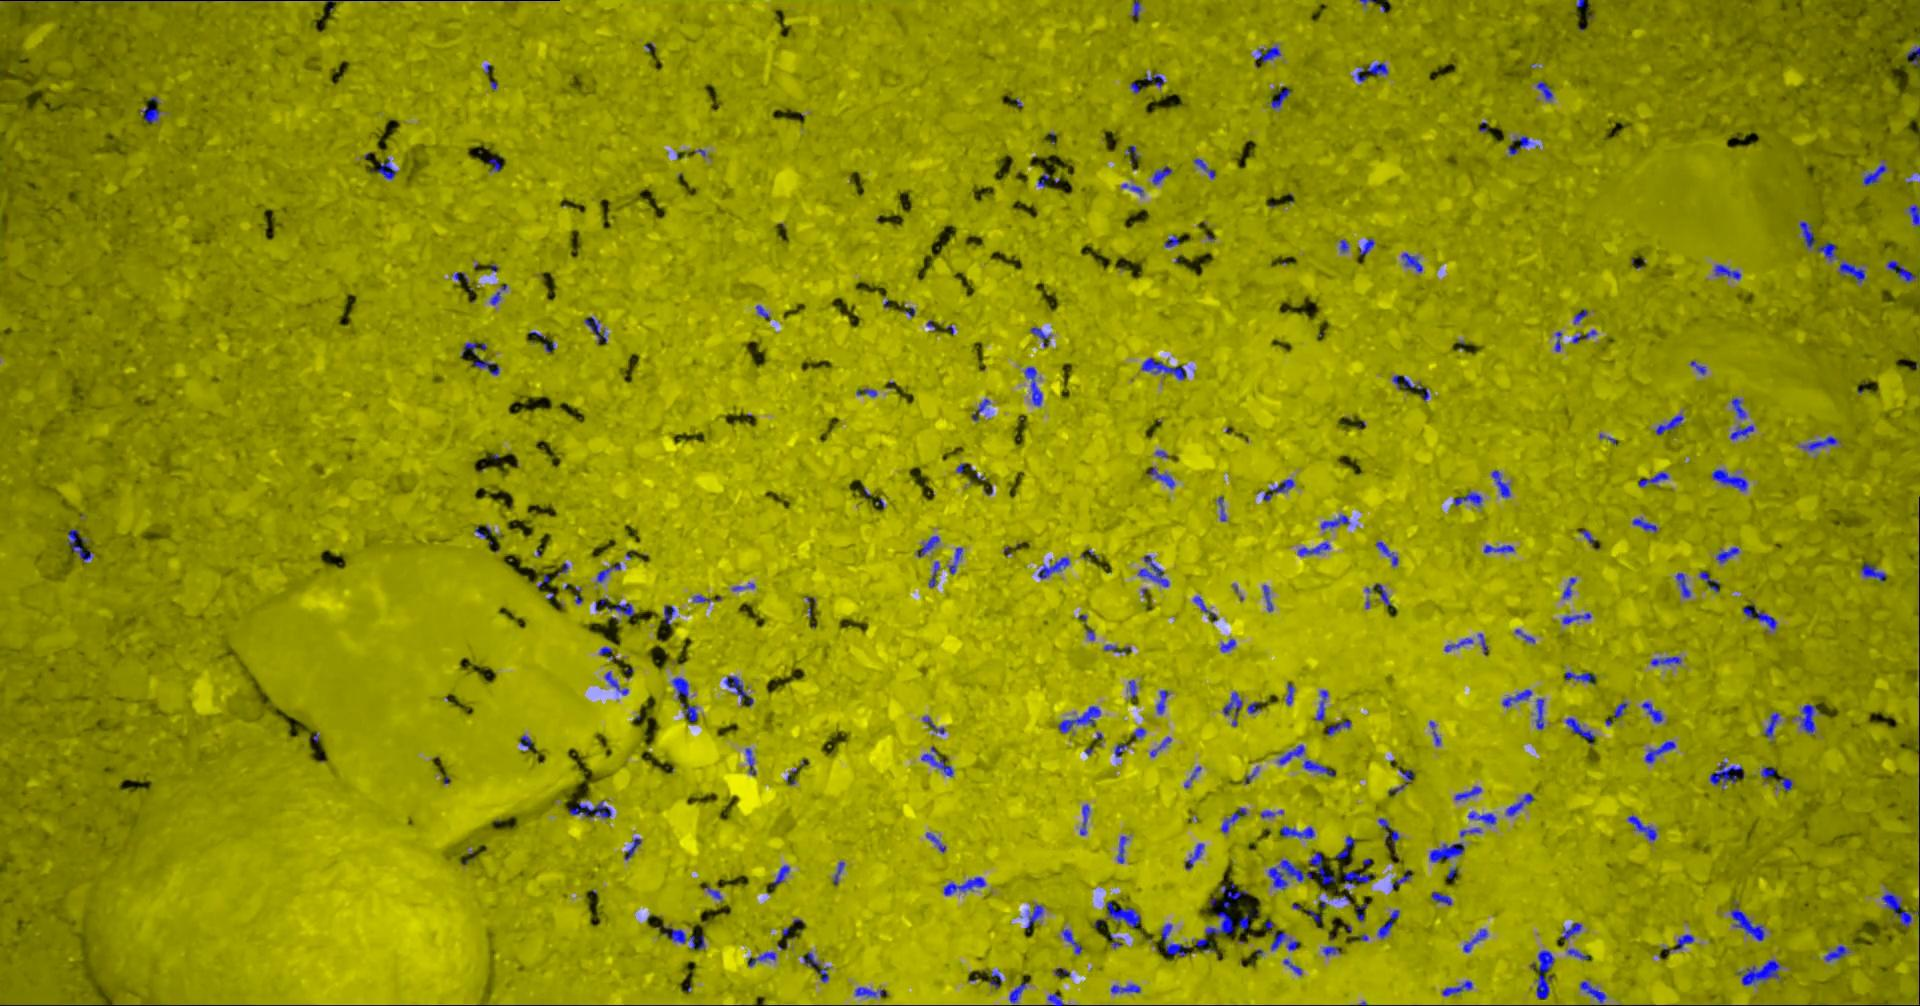ant: (1205, 883, 1247, 934), (1799, 221, 1836, 260), (1881, 890, 1919, 927), (1267, 859, 1312, 889), (1730, 903, 1764, 940), (1529, 950, 1554, 998), (1057, 705, 1100, 732), (1736, 959, 1780, 984), (657, 926, 703, 949), (1263, 920, 1298, 950), (1137, 555, 1168, 586), (921, 746, 952, 776), (1142, 357, 1186, 379), (1105, 901, 1140, 927), (1392, 375, 1429, 400), (724, 674, 753, 706), (1161, 923, 1189, 956), (1308, 851, 1335, 884), (1742, 605, 1777, 629), (1709, 761, 1743, 785), (943, 876, 985, 895), (67, 528, 91, 561), (1710, 469, 1747, 490), (1564, 716, 1592, 744), (803, 951, 828, 982), (1262, 478, 1294, 500), (1023, 366, 1041, 406), (1222, 691, 1242, 727), (1429, 842, 1464, 862), (1886, 260, 1919, 282), (568, 800, 611, 817), (1627, 815, 1656, 840), (1377, 817, 1399, 847), (1644, 741, 1675, 762), (1037, 558, 1069, 578), (1798, 704, 1818, 735), (1220, 807, 1246, 832), (1578, 981, 1605, 1005), (1505, 793, 1533, 815), (1377, 909, 1399, 937), (1192, 596, 1217, 621), (1389, 768, 1415, 793), (1255, 44, 1280, 67), (1356, 62, 1387, 81), (1462, 929, 1487, 951), (1662, 934, 1693, 953), (1839, 260, 1865, 282), (584, 316, 606, 343), (1655, 414, 1683, 434), (1801, 436, 1837, 451), (604, 671, 629, 694), (1302, 760, 1335, 776), (1148, 467, 1175, 488), (1501, 688, 1531, 706), (916, 535, 938, 558), (1862, 164, 1886, 185), (1375, 541, 1397, 565), (1491, 470, 1510, 497), (1277, 744, 1304, 763), (1297, 541, 1330, 556), (530, 332, 554, 352), (596, 561, 620, 582), (1062, 929, 1082, 953), (472, 356, 498, 375), (1637, 471, 1669, 486), (1860, 561, 1886, 580), (1183, 843, 1203, 869), (1763, 713, 1779, 742), (1192, 158, 1215, 178), (1343, 870, 1374, 885), (1023, 904, 1043, 929), (1270, 86, 1290, 108), (376, 158, 396, 179), (1401, 251, 1422, 272), (1641, 701, 1662, 721), (1149, 735, 1171, 756), (1280, 826, 1314, 838), (1336, 835, 1355, 857), (1444, 636, 1472, 652), (747, 951, 775, 967), (1699, 570, 1719, 591), (924, 832, 945, 852), (1321, 514, 1350, 528), (1467, 810, 1496, 824), (1443, 981, 1472, 995), (1314, 688, 1327, 720), (1823, 945, 1848, 962), (1453, 492, 1481, 506), (1150, 165, 1171, 184), (1714, 264, 1740, 279), (1030, 326, 1049, 347), (1675, 572, 1690, 597), (1564, 671, 1595, 683), (1373, 583, 1390, 605), (670, 677, 688, 699), (623, 837, 641, 859), (1716, 546, 1738, 563), (949, 547, 963, 574), (1326, 720, 1350, 735), (1390, 869, 1410, 888), (771, 865, 789, 885), (1008, 982, 1026, 1002), (922, 716, 943, 733), (1571, 329, 1596, 343), (1632, 517, 1657, 531), (1730, 424, 1752, 439), (1454, 786, 1481, 799), (1283, 958, 1302, 976), (608, 602, 632, 616), (1561, 922, 1581, 939), (461, 342, 486, 354), (1156, 688, 1168, 714), (681, 702, 697, 721), (138, 107, 159, 122), (1650, 655, 1680, 666), (1079, 804, 1090, 835), (1562, 612, 1591, 622), (855, 987, 888, 996), (1537, 81, 1552, 100), (832, 861, 844, 884), (1143, 72, 1163, 86), (1731, 398, 1745, 418), (1117, 835, 1128, 862), (1431, 890, 1451, 904), (1906, 44, 1919, 66), (1562, 577, 1575, 598), (1357, 238, 1374, 254), (1483, 544, 1514, 553), (1262, 584, 1272, 611), (745, 747, 756, 774), (1110, 984, 1140, 993), (1195, 937, 1214, 951), (928, 561, 938, 587), (1611, 701, 1627, 718), (1777, 776, 1793, 791), (1907, 205, 1919, 226), (1567, 948, 1589, 959), (1511, 135, 1530, 147), (1535, 699, 1543, 729), (663, 605, 674, 624), (1220, 638, 1236, 652), (1103, 644, 1131, 652), (519, 735, 535, 749), (1048, 992, 1064, 1005), (989, 970, 1001, 988), (1573, 309, 1587, 323), (599, 647, 615, 659), (1285, 683, 1294, 705), (488, 158, 500, 171), (1164, 234, 1178, 246), (1760, 766, 1774, 779), (1238, 915, 1250, 929), (1131, 0, 1140, 17), (1322, 946, 1338, 955), (1247, 701, 1260, 713)
